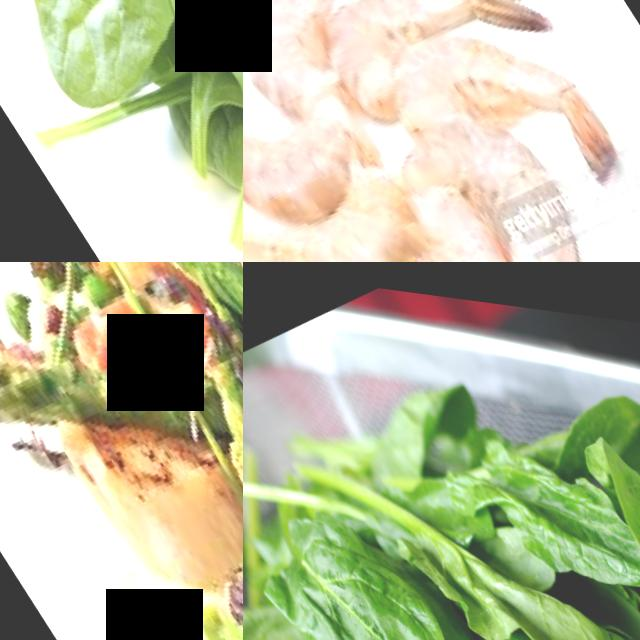shrimp: (354, 0, 559, 154), (295, 0, 542, 94), (243, 158, 429, 262), (243, 15, 310, 238), (266, 210, 529, 262), (243, 0, 426, 65)
spinach: (250, 487, 480, 640), (0, 0, 197, 128), (82, 0, 243, 82)
